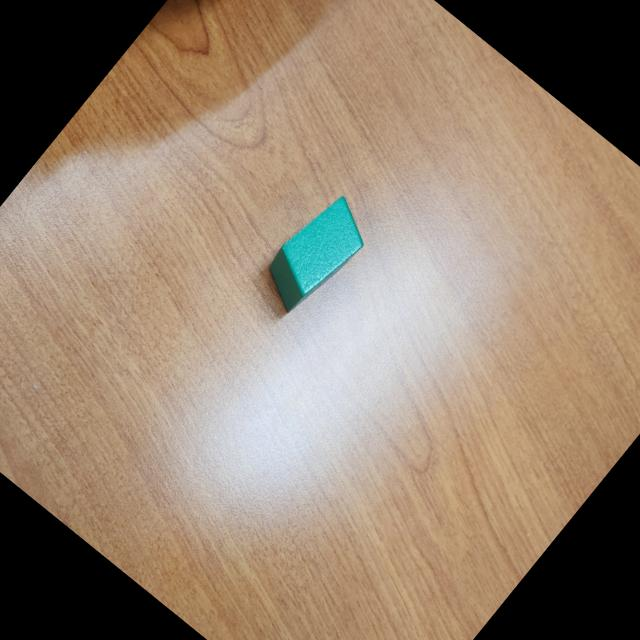green: (250, 185, 380, 324)
